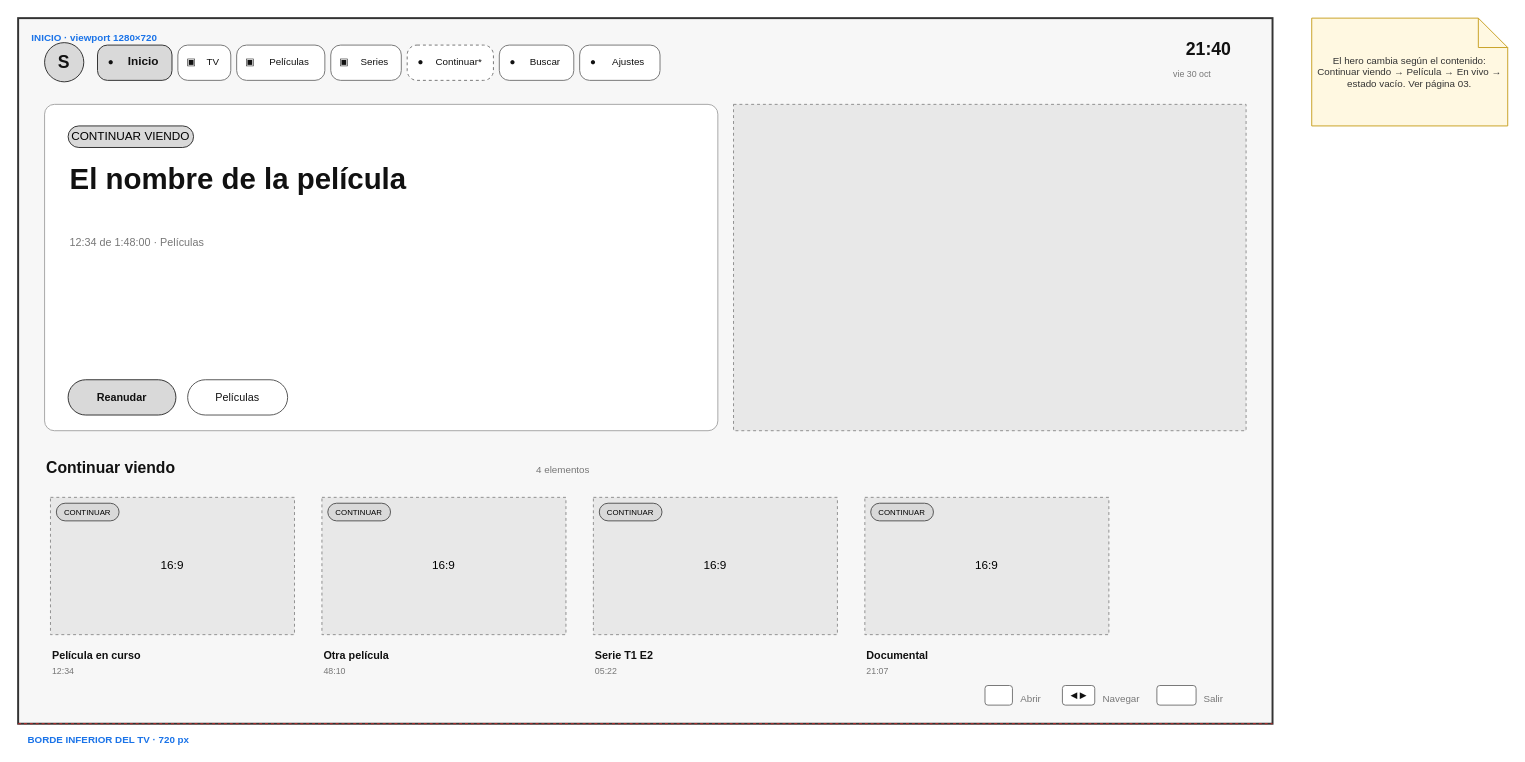
Some shapes in this 1525 by 762 pixel diagram are drawn without their labels. Here are the shapes that lost their labels. From the top down, the centre of each, then its label:
At pixel 989 267: "ARTWORK / BACKDROP".
At pixel 998 695: "OK".
At pixel 1176 695: "Back".
